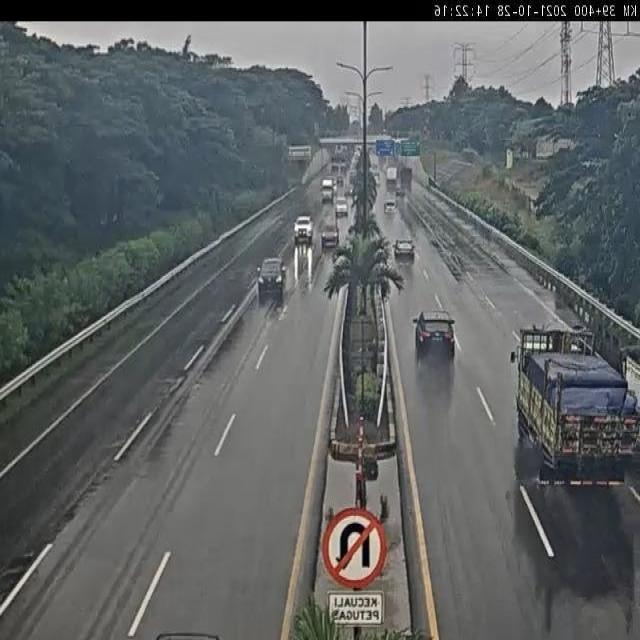Car: (411, 309, 457, 358), (257, 257, 287, 296), (293, 214, 315, 243), (391, 238, 416, 261), (320, 224, 340, 249), (334, 195, 348, 216), (383, 198, 397, 214), (343, 185, 354, 197), (336, 175, 344, 186), (332, 181, 338, 195)
Truck: (510, 321, 640, 491), (319, 178, 334, 203), (399, 166, 413, 188), (385, 166, 399, 186)
